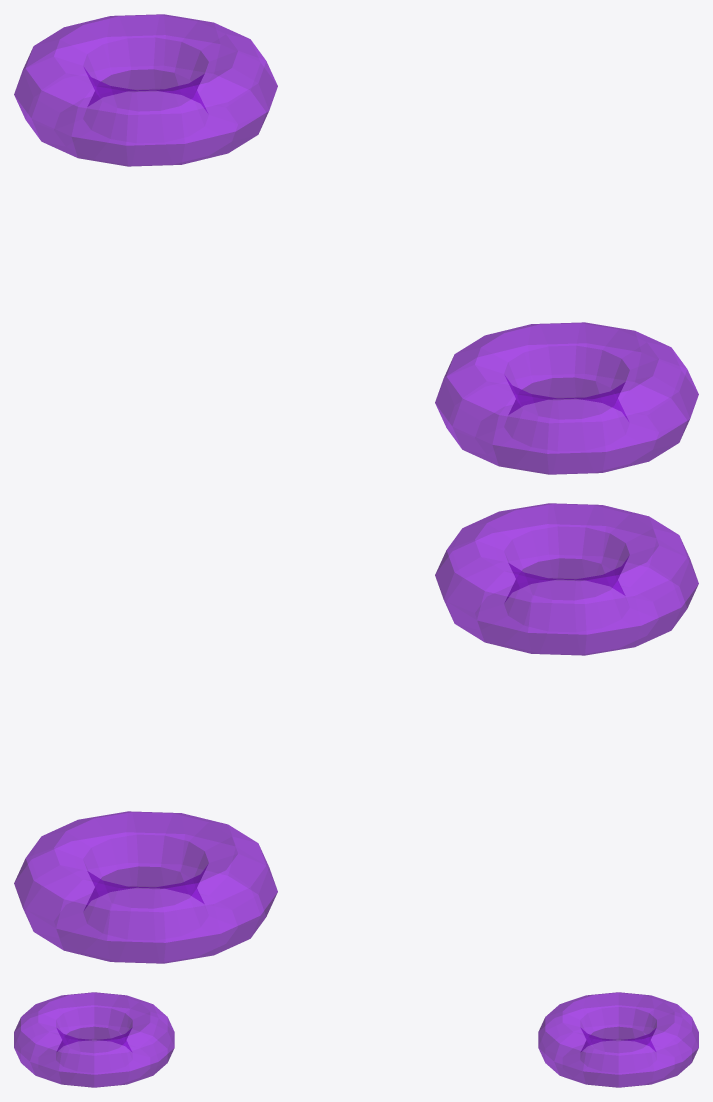
File: (1)M GJump.fbx
The picture shows the model from 3 angles, top to bottom: view 1: azimuth 30°, elevation 25°; view 2: azimuth 150°, elevation 25°; view 3: azimuth 270°, elevation 25°; orthographic projection. The views are drawn at different scales.
Parts seen in each view (by area): view 1: GravityJump.019, GravityJump.020; view 2: GravityJump.019, GravityJump.020; view 3: GravityJump.019, GravityJump.020.
Boxes of the visible parts, left/top/right/bottom form: GravityJump.019: left=435, top=322, right=698, bottom=474; GravityJump.020: left=14, top=14, right=277, bottom=166; GravityJump.019: left=435, top=503, right=698, bottom=655; GravityJump.020: left=14, top=811, right=277, bottom=963; GravityJump.019: left=14, top=992, right=174, bottom=1087; GravityJump.020: left=538, top=992, right=698, bottom=1087.
Bounding box in the file's own units: 157 × 48.2 × 653.
